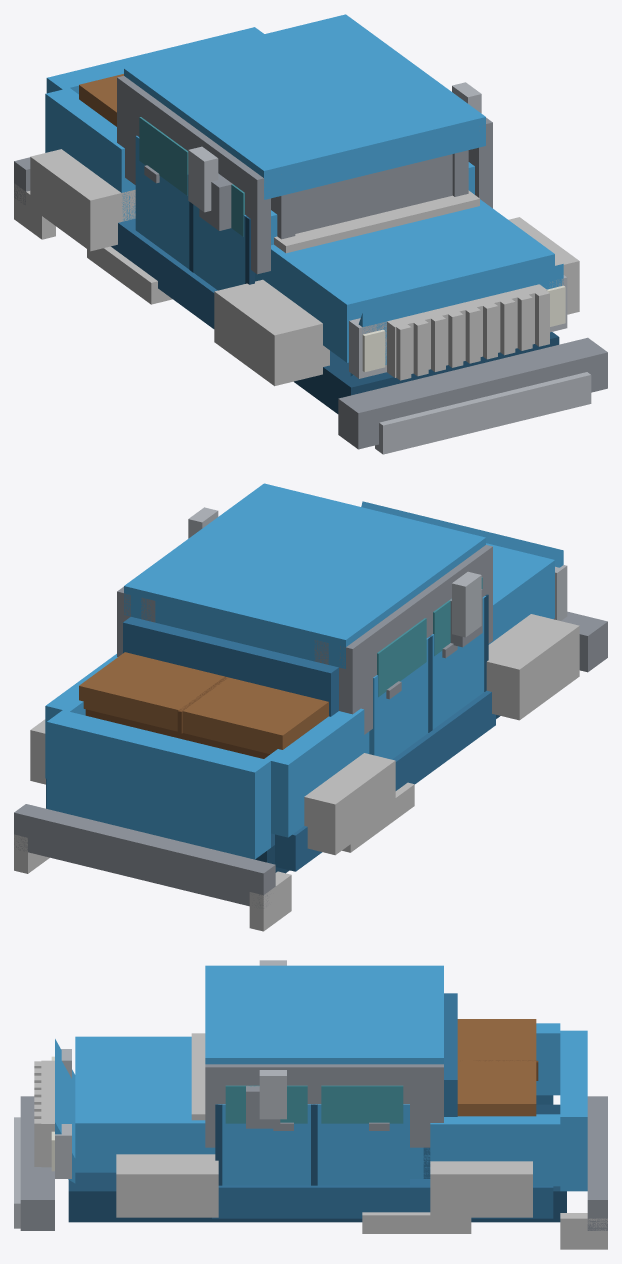
Rendered from trailblazer_frame.obj.
3 views of the same model, one above another, from view 1: azimuth 30°, elevation 25°; view 2: azimuth 150°, elevation 25°; view 3: azimuth 270°, elevation 25° (orthographic). The views are drawn at different scales.
Bounding box in the file's own units: 44 × 30 × 87.
